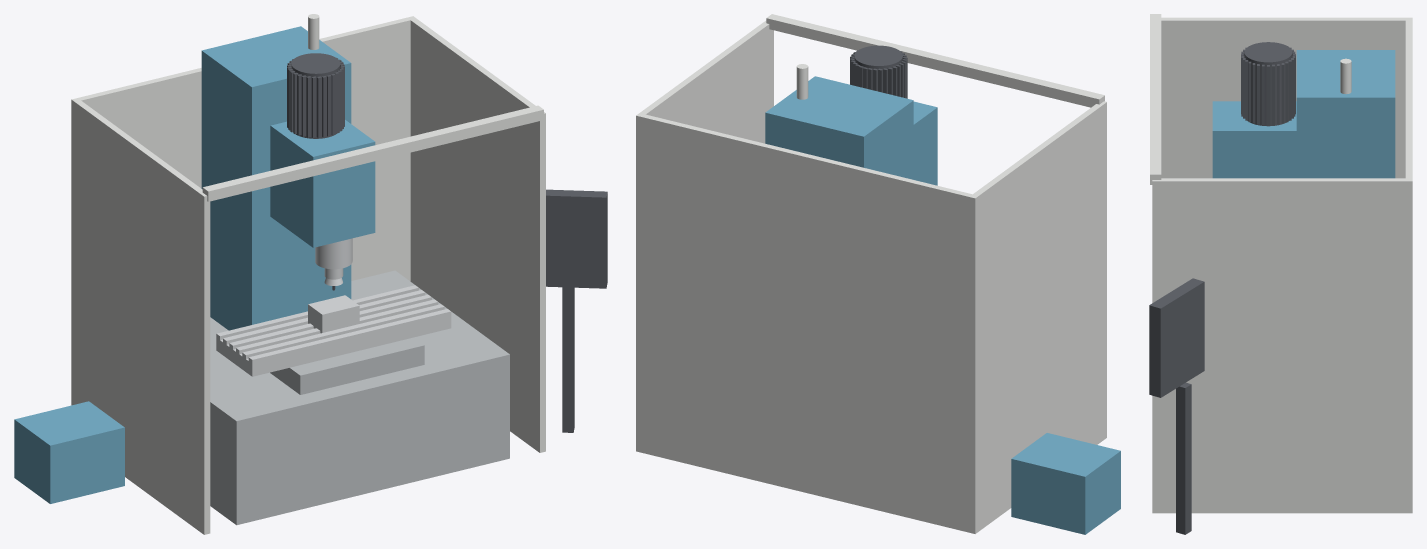
File: cnc-machine-s.glb
3 renders of one model, left to right at view 1: azimuth 30°, elevation 25°; view 2: azimuth 150°, elevation 25°; view 3: azimuth 270°, elevation 25°, orthographic.
Visible parts, largest first — view 1: enclosure, base, column, table, head, coolant, panel, motor, saddle, workpiece, bearing; view 2: enclosure, column, coolant, motor, head; view 3: enclosure, column, panel, head, motor, lamp.
Part boxes in pixels (x1=…): enclosure: x1=71, y1=16, x2=545, y2=534; base: x1=210, y1=270, x2=509, y2=525; column: x1=201, y1=26, x2=351, y2=330; table: x1=216, y1=285, x2=451, y2=376; head: x1=270, y1=120, x2=375, y2=247; coolant: x1=14, y1=401, x2=124, y2=503; panel: x1=546, y1=189, x2=607, y2=432; motor: x1=287, y1=53, x2=344, y2=138; saddle: x1=270, y1=337, x2=424, y2=394; workpiece: x1=308, y1=295, x2=359, y2=333; bearing: x1=315, y1=238, x2=352, y2=269; enclosure: x1=636, y1=14, x2=1106, y2=533; column: x1=765, y1=76, x2=913, y2=179; coolant: x1=1011, y1=433, x2=1120, y2=534; motor: x1=850, y1=45, x2=907, y2=98; head: x1=913, y1=101, x2=937, y2=185; enclosure: x1=1150, y1=14, x2=1412, y2=513; column: x1=1296, y1=50, x2=1395, y2=178; panel: x1=1149, y1=278, x2=1204, y2=534; head: x1=1212, y1=101, x2=1296, y2=178; motor: x1=1241, y1=42, x2=1295, y2=126; lamp: x1=1340, y1=58, x2=1351, y2=94.
Size of the model in its own units: 3.96 by 3.04 by 1.87.
